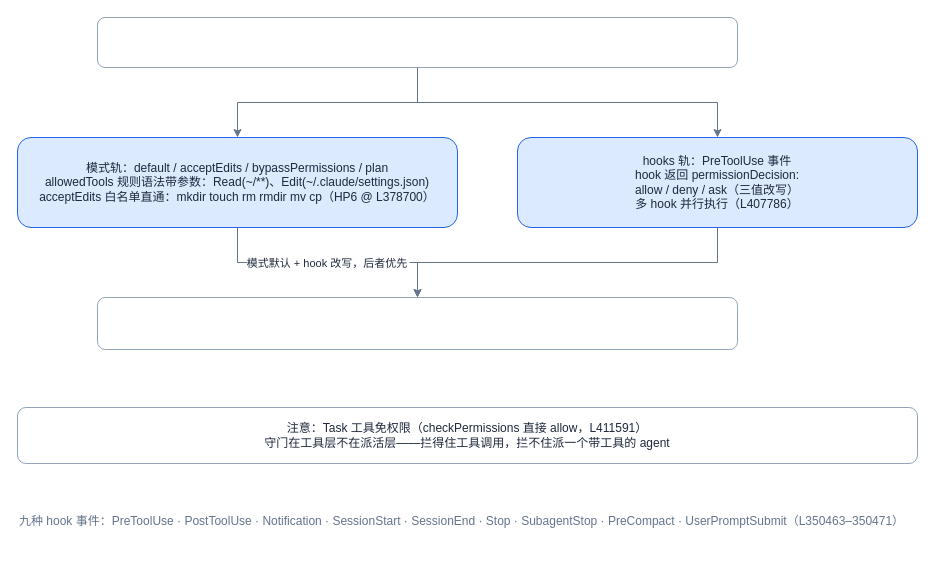
Image size: 935x565. Some labels were removed from this diagram. The box of each missing label's shape, as (x1, y1, x2, y2) in pixels:
工具调用进入执行管线（aN5 @ L417234） 先过 inputSchema.safeParse 校验: (96, 16, 738, 68)
执行工具，产出 tool_result 决策痕迹：decisionReason { type: mode | hook }: (96, 296, 738, 350)
